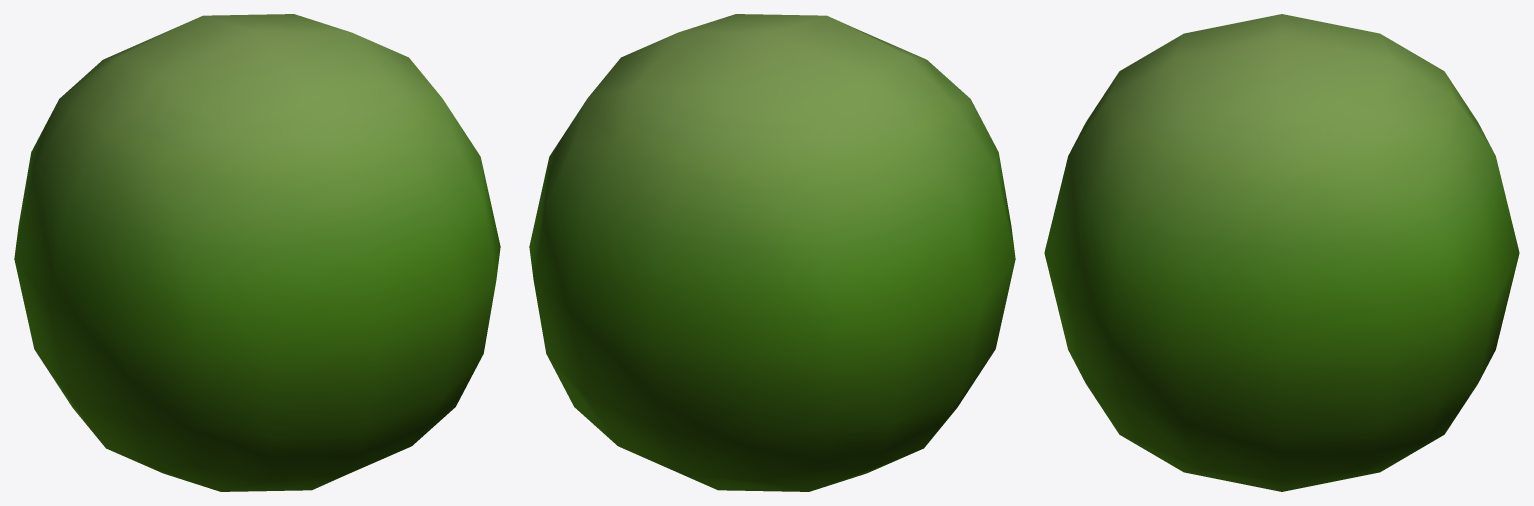
Rendered from PeaSingle.glb.
The picture shows the model from 3 angles, left to right: view 1: azimuth 30°, elevation 25°; view 2: azimuth 150°, elevation 25°; view 3: azimuth 270°, elevation 25°; orthographic projection.
Visible parts, largest first — view 1: geometry_0; view 2: geometry_0; view 3: geometry_0.
Part boxes in pixels (bbox=[...]): geometry_0: bbox=[14, 14, 500, 491]; geometry_0: bbox=[529, 14, 1015, 491]; geometry_0: bbox=[1044, 14, 1519, 491].
Bounding box in the file's own units: 3.8 × 3.8 × 3.8.
1 material, 1 textured.
